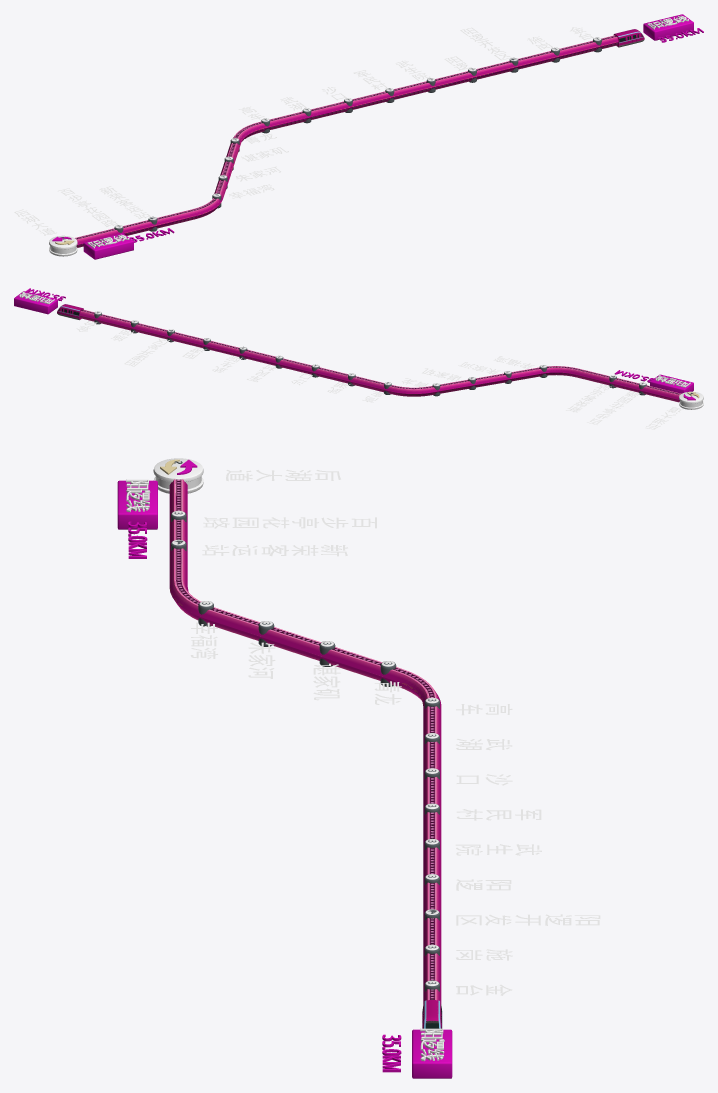
3 renders of one model, top to bottom at view 1: azimuth 30°, elevation 25°; view 2: azimuth 150°, elevation 25°; view 3: azimuth 270°, elevation 25°, orthographic. The views are drawn at different scales.
Parts seen in each view (by area): view 1: 阳逻线, psop-whgj-hhdd-后湖大道, Box010, Box009, psop-whgj-bbthyl-百步亭花园, psop-whgj-xrkyz-新荣客运站, psop-whgj-ylkfq-阳逻开发区; view 2: 阳逻线, psop-whgj-hhdd-后湖大道, Box009, Box010, psop-whgj-bbthyl-百步亭花园, psop-whgj-xrkyz-新荣客运站, psop-whgj-ylkfq-阳逻开发区, 阳逻线车头01; view 3: 阳逻线, psop-whgj-hhdd-后湖大道, Box009, Box010, psop-whgj-bbthyl-百步亭花园, psop-whgj-xrkyz-新荣客运站, psop-whgj-ylkfq-阳逻开发区.
Part boxes in pixels (<box>): 阳逻线: <box>75,35,618,247</box>; psop-whgj-hhdd-后湖大道: <box>14,209,77,256</box>; Box010: <box>83,233,133,259</box>; Box009: <box>643,14,693,40</box>; psop-whgj-bbthyl-百步亭花园: <box>57,188,123,232</box>; psop-whgj-xrkyz-新荣客运站: <box>99,186,157,231</box>; psop-whgj-ylkfq-阳逻开发区: <box>460,27,518,72</box>; 阳逻线: <box>79,309,681,402</box>; psop-whgj-hhdd-后湖大道: <box>645,391,703,429</box>; Box009: <box>14,291,57,314</box>; Box010: <box>650,374,693,393</box>; psop-whgj-bbthyl-百步亭花园: <box>587,382,646,424</box>; psop-whgj-xrkyz-新荣客运站: <box>566,375,616,412</box>; psop-whgj-ylkfq-阳逻开发区: <box>124,329,174,366</box>; 阳逻线车头01: <box>57,304,83,320</box>; 阳逻线: <box>169,479,441,1003</box>; psop-whgj-hhdd-后湖大道: <box>153,458,340,493</box>; Box009: <box>412,1029,452,1078</box>; Box010: <box>117,480,157,529</box>; psop-whgj-bbthyl-百步亭花园: <box>171,510,376,528</box>; psop-whgj-xrkyz-新荣客运站: <box>171,539,347,556</box>; psop-whgj-ylkfq-阳逻开发区: <box>424,909,600,925</box>.
Bounding box in the file's own units: 3.14 × 0.0593 × 1.06.
7 materials, 3 textured.
